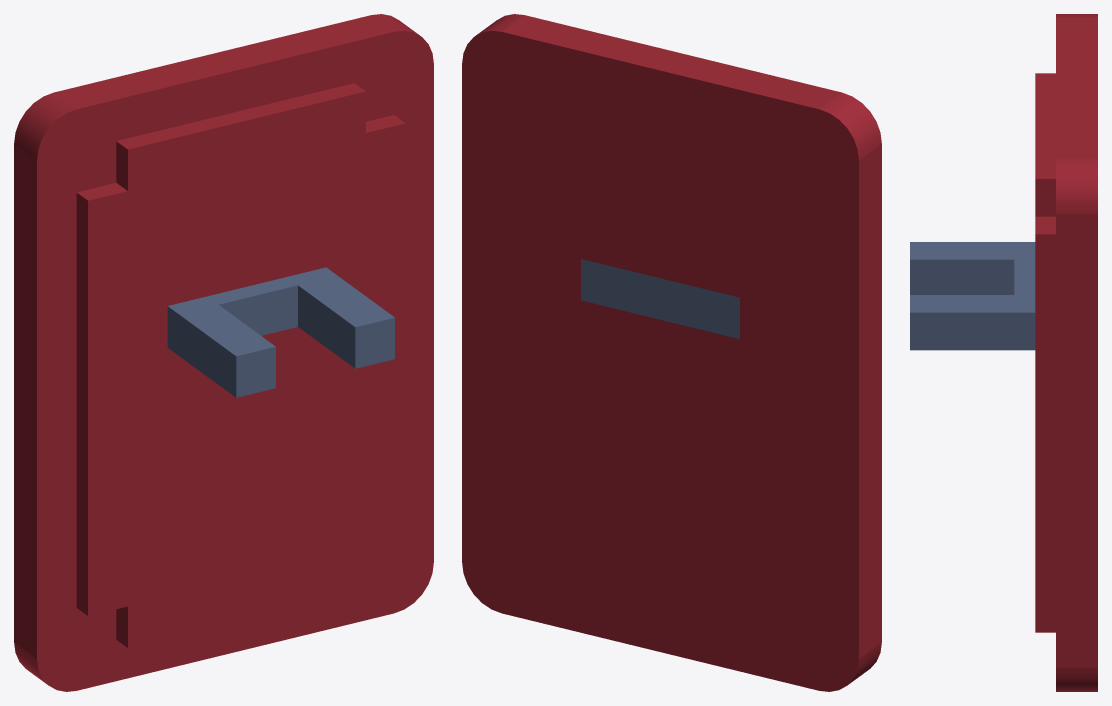
File: phone_base.glb
3 views of the same model, side by side, from view 1: azimuth 30°, elevation 25°; view 2: azimuth 150°, elevation 25°; view 3: azimuth 270°, elevation 25° (orthographic). The views are drawn at different scales.
Visible parts, largest first — view 1: generated(Clone); view 2: generated(Clone); view 3: generated(Clone).
Part boxes in pixels (bbox=[...]): generated(Clone): bbox=[14, 14, 433, 691]; generated(Clone): bbox=[462, 14, 881, 691]; generated(Clone): bbox=[910, 14, 1097, 691].
Size of the model in its own units: 10 by 14 by 4.5.
1 material, 1 textured.
